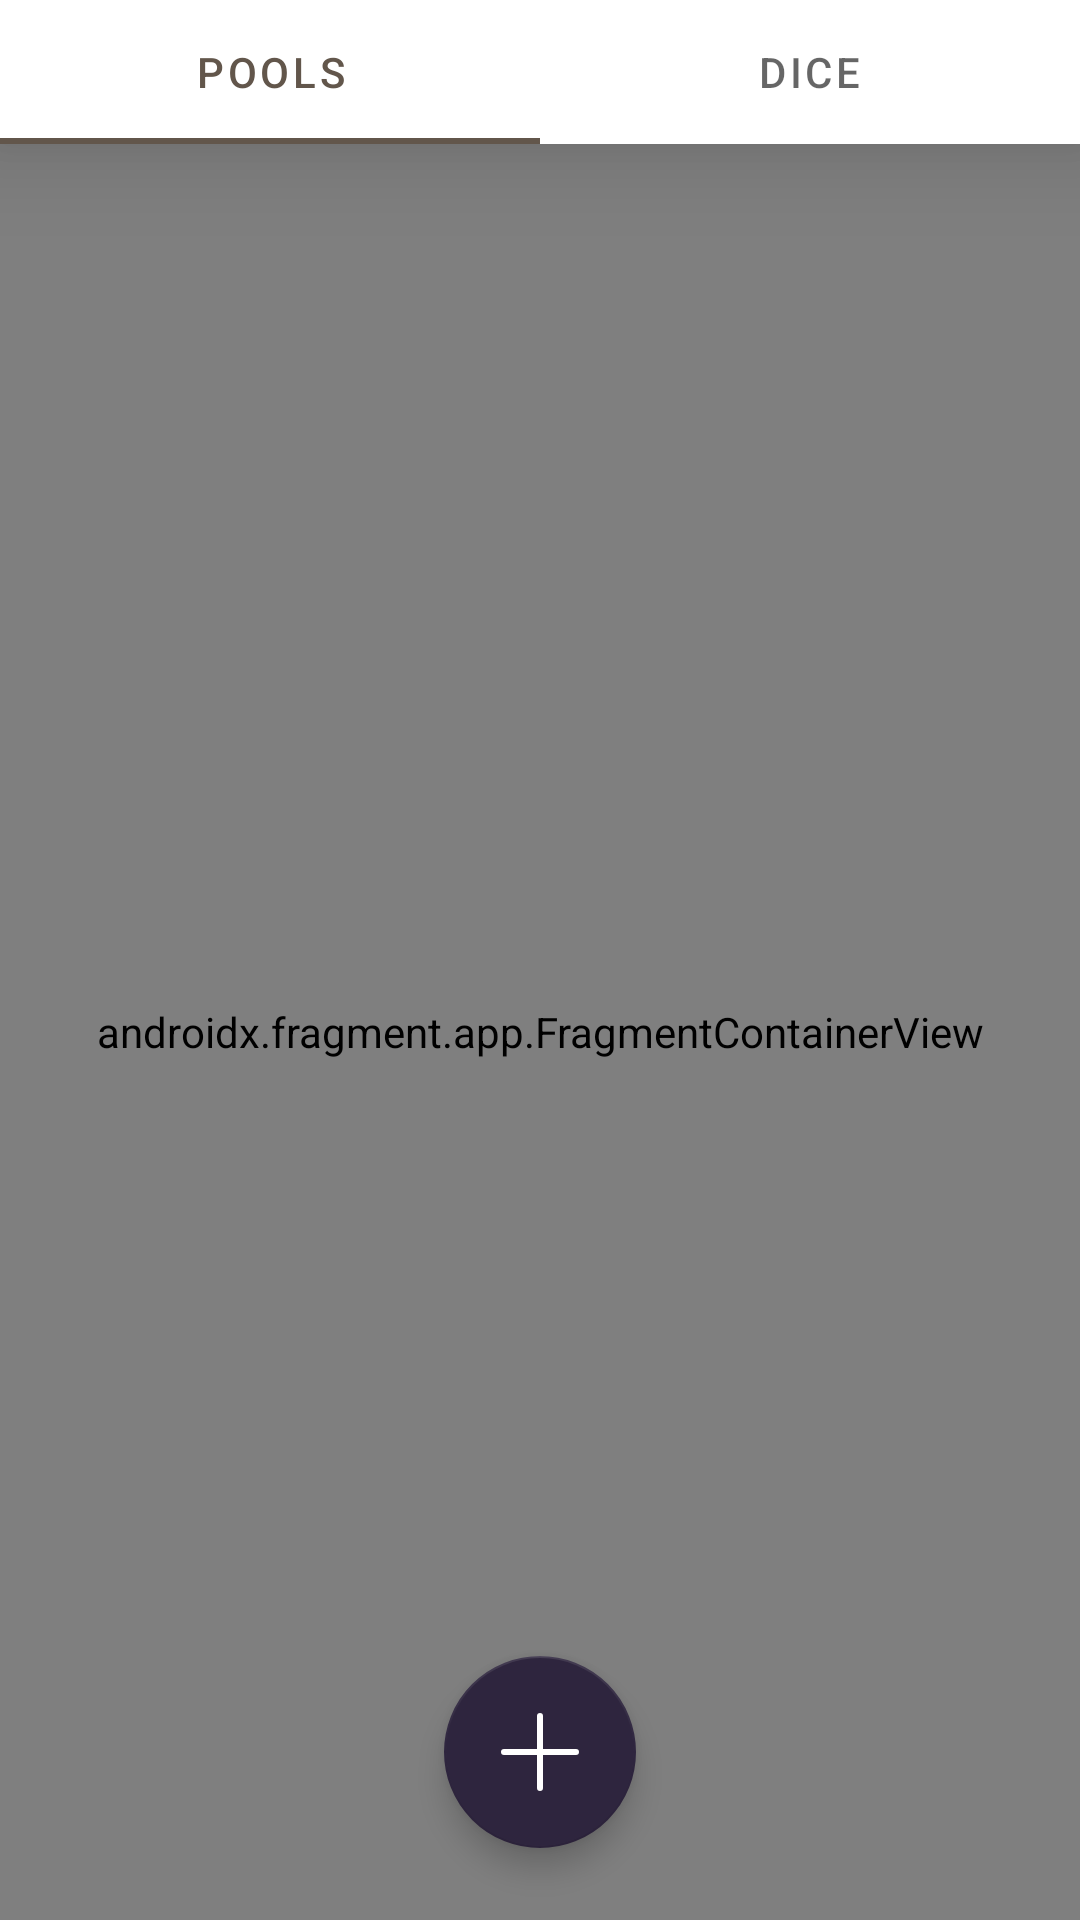

Point at icon controls on the screen. Image size 1080w x 1920h, points as [x,y].
New Item: [540,1752]
